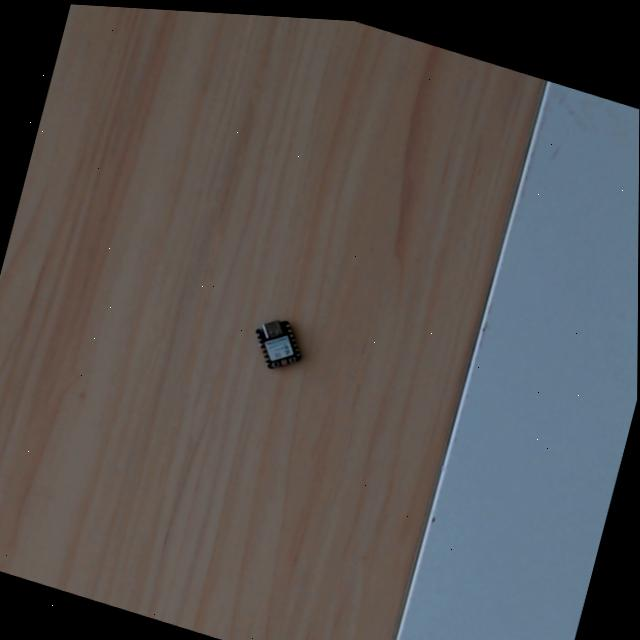ESP32C3-Xiao: (250, 312, 307, 374)
